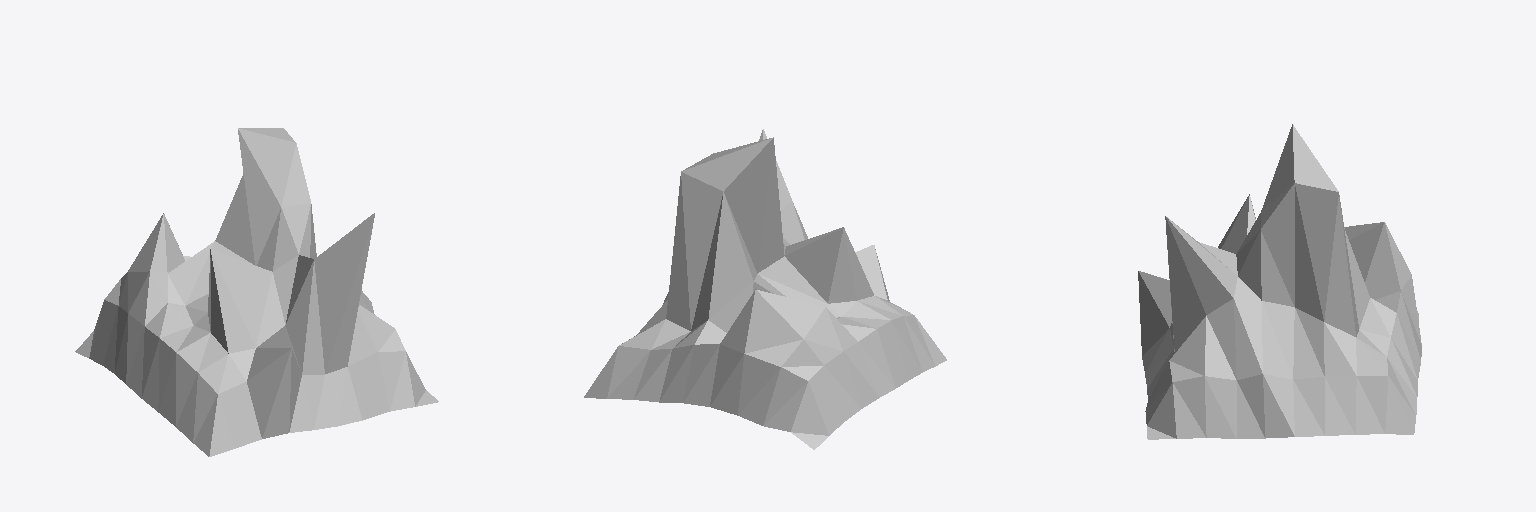
Rendered from iceberg.obj.
3 renders of one model, left to right at view 1: azimuth 30°, elevation 25°; view 2: azimuth 150°, elevation 25°; view 3: azimuth 270°, elevation 25°, orthographic.
Parts seen in each view (by area): view 1: Grid.001_Grid.005; view 2: Grid.001_Grid.005; view 3: Grid.001_Grid.005.
Boxes of the visible parts, x1,y1,x2,y2 form: Grid.001_Grid.005: [75, 128, 438, 456]; Grid.001_Grid.005: [584, 129, 946, 449]; Grid.001_Grid.005: [1138, 124, 1421, 439].
Bounding box in the file's own units: 12.6 × 12.56 × 12.8.